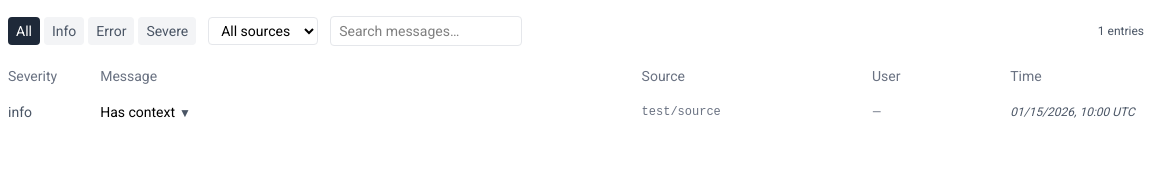
it: LogViewer › expands context row when entry with context is clicked
This screenshot has width=1152, height=179.
Check: the text "errorCode" is not shown
Step 1. Click the text "Has context" → click(138, 112), box x1=100 y1=104 x2=175 y2=120
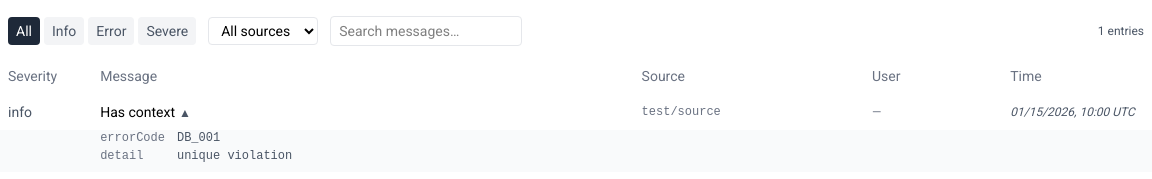
Check: the text "errorCode" is shown, box x1=100 y1=130 x2=165 y2=146
Check: the text "DB_001" is shown, box x1=177 y1=131 x2=220 y2=145
